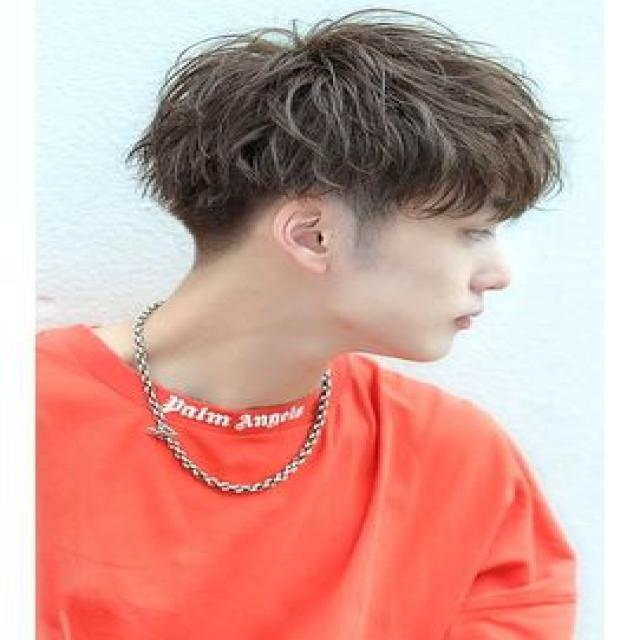Healthy: (150, 253, 379, 399)
